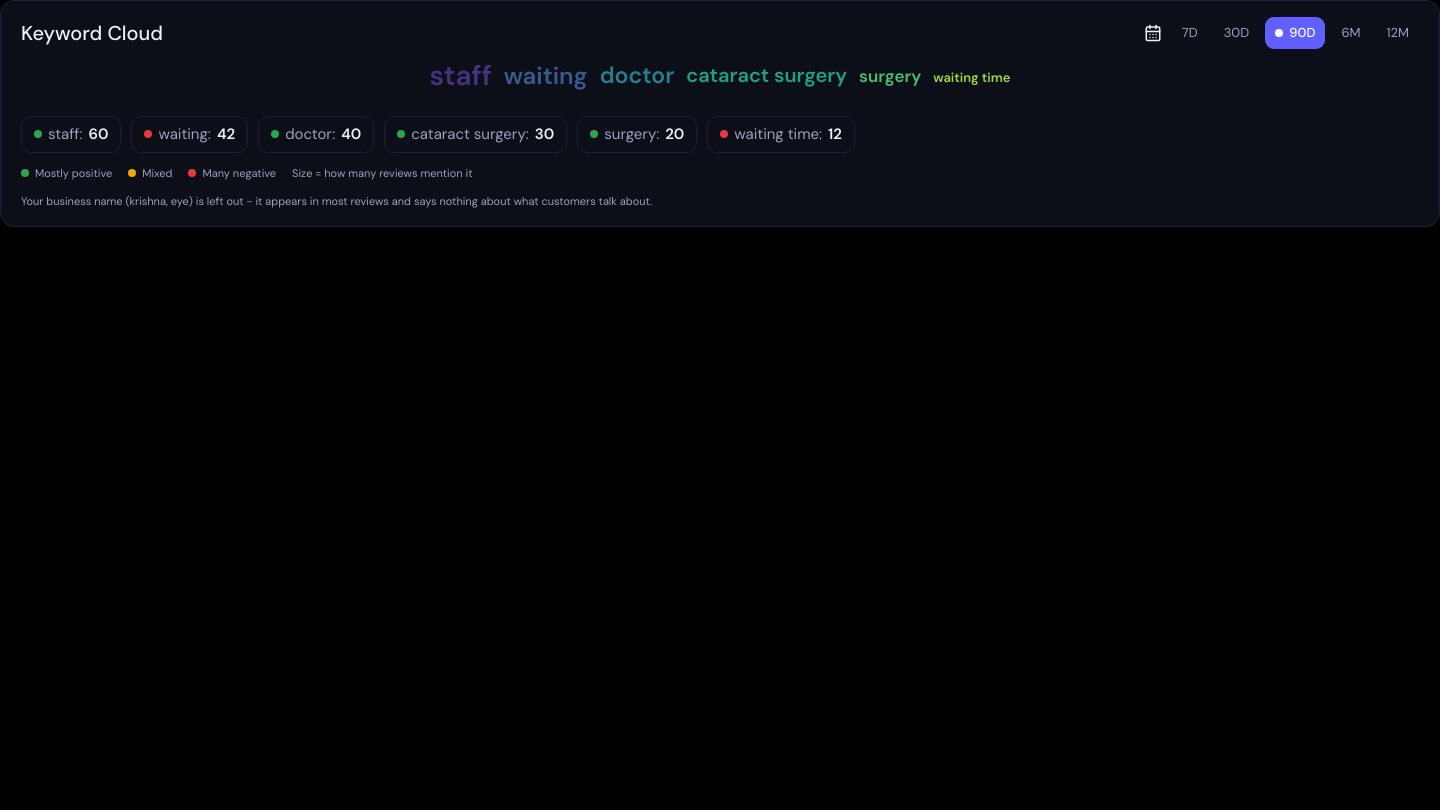
Test case: Keyword Cloud › clicking a chip shows its details: reviews and the positive / neutral / negative split
Step 1. Click the button with aria-label "waiting, 42 reviews" → coordinates (190, 134), box [132,116,248,152]
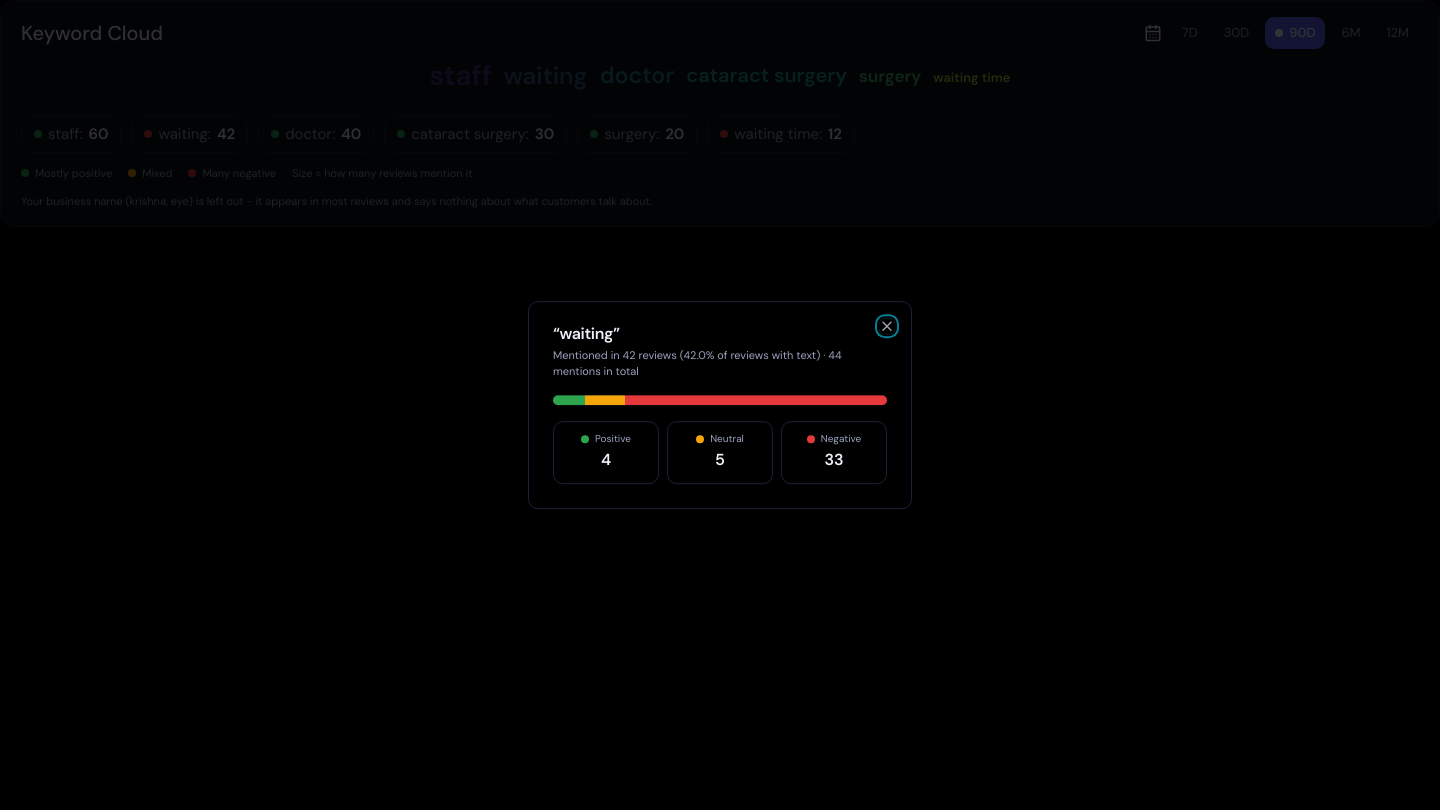
Result: the heading "“waiting”" is shown at [553,323,620,344]
Result: the dialog shows "Mentioned in 42 reviews" at [528,301,912,509]
Result: the text "Positive" shows "4" at [601,449,611,470]
